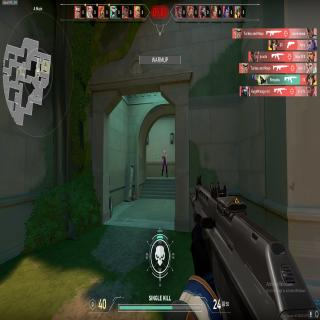ENEMY-BODY: (162, 149, 168, 178)
ENEMY-HEAD: (163, 150, 166, 155)
